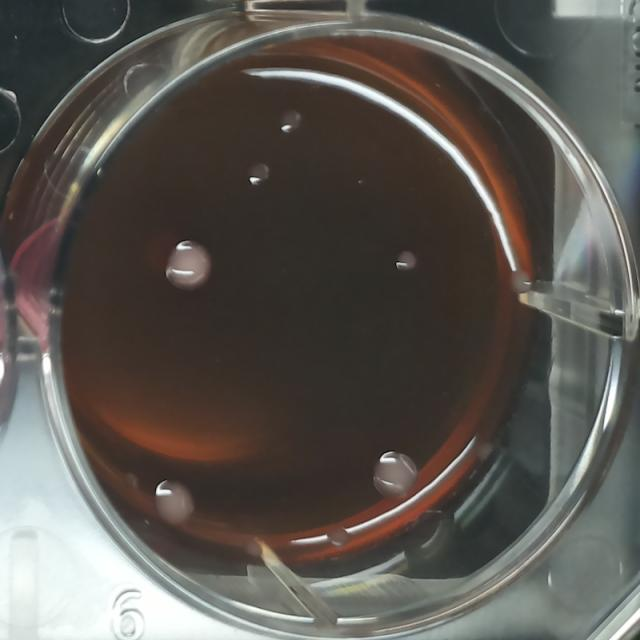Bacillus: (367, 445, 422, 503), (162, 236, 212, 294), (149, 477, 199, 533)
